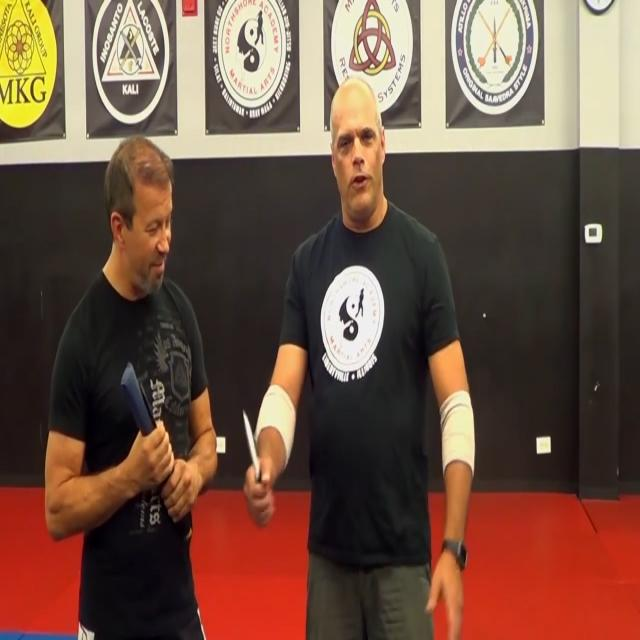knife: (241, 407, 267, 483)
